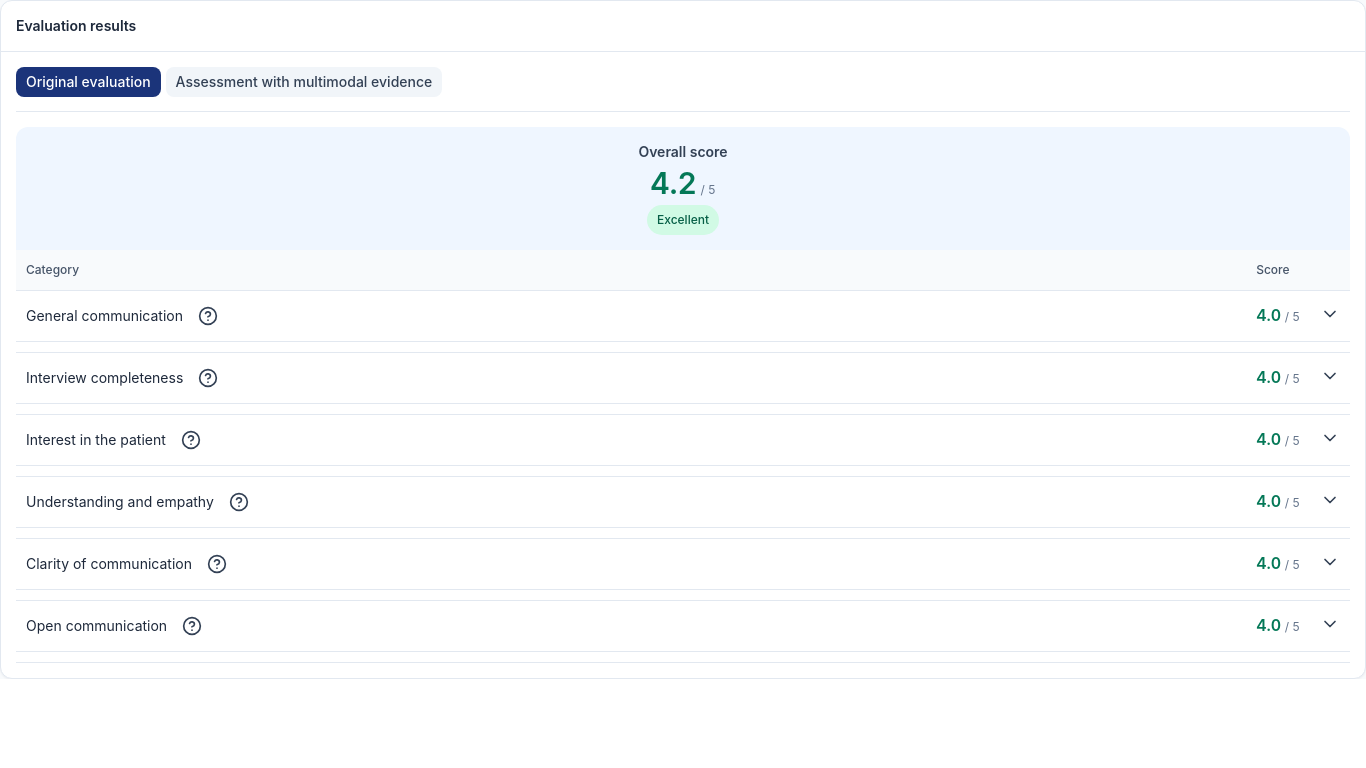
Test: Evaluation condition selector › shows the Understanding and empathy criteria without a multimodal evidence section
Click the button "Assessment with multimodal evidence".
click(304, 82)  # box [166,67,442,97]
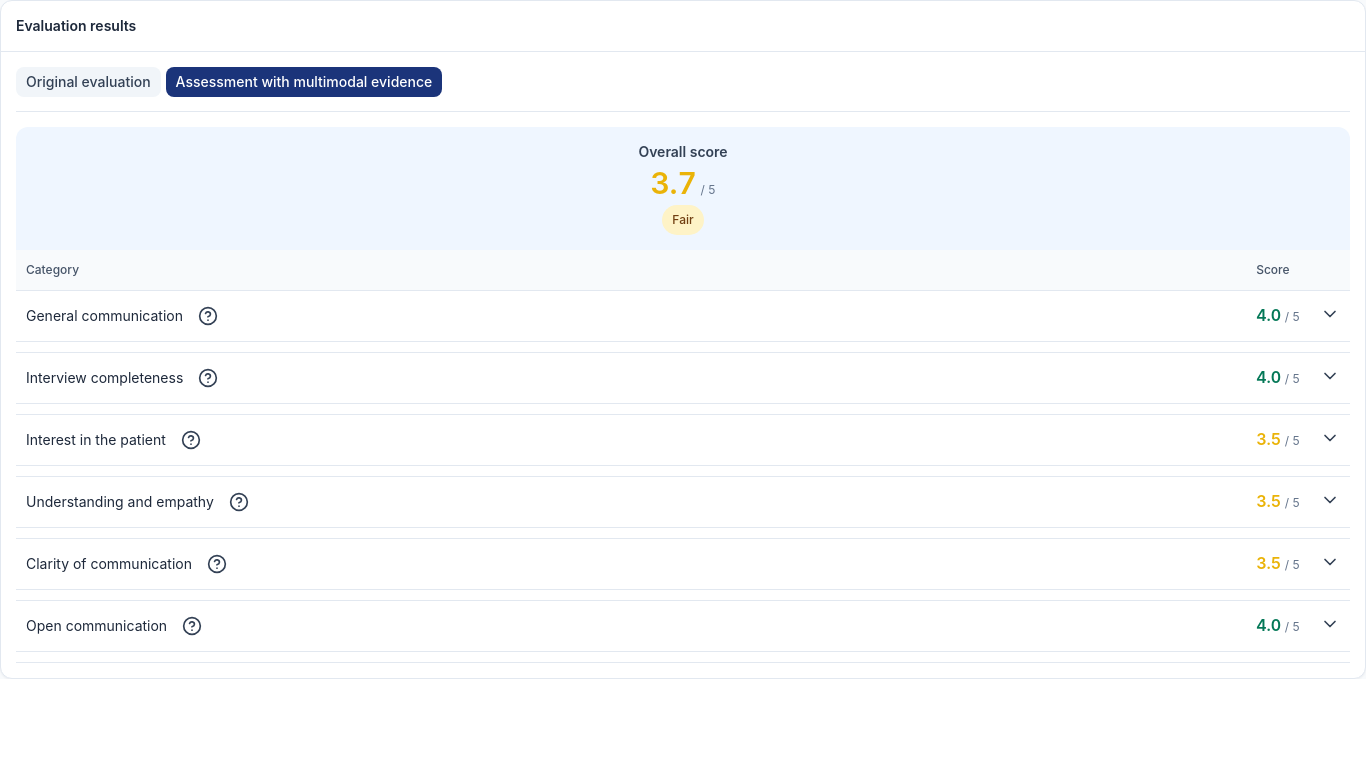
Click the button named "View assessment criteria for Understanding and empathy".
click(239, 502)  # box [224,487,254,517]
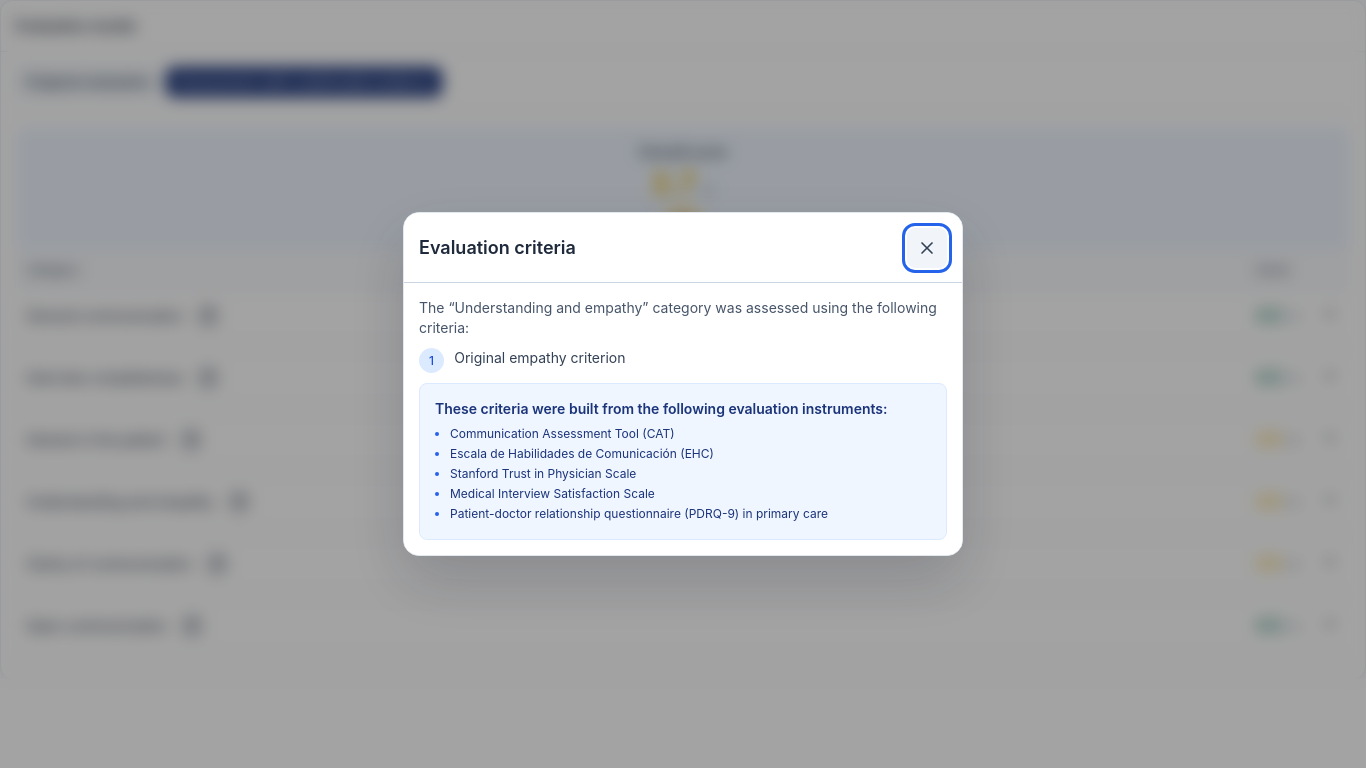
Expected: the text "Original empathy criterion" is shown, [454,349,626,366]
